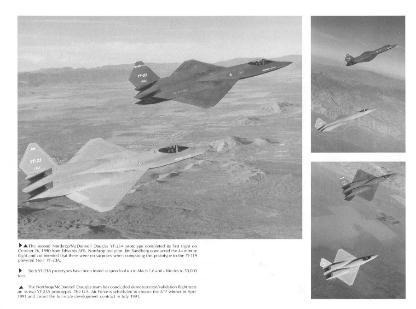US2: (18, 137, 212, 212), (128, 58, 292, 108), (319, 248, 377, 285), (339, 168, 397, 200), (314, 108, 376, 136), (343, 44, 396, 66)
